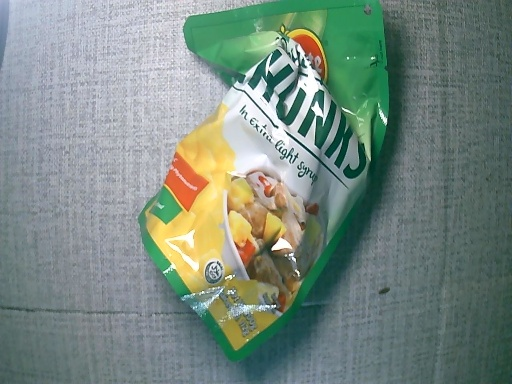plastic: (135, 1, 390, 368)
